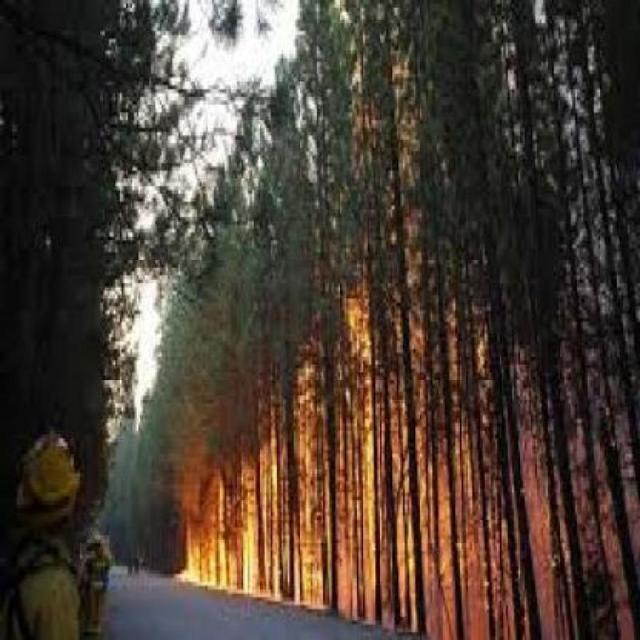Fire: (156, 347, 574, 619)
